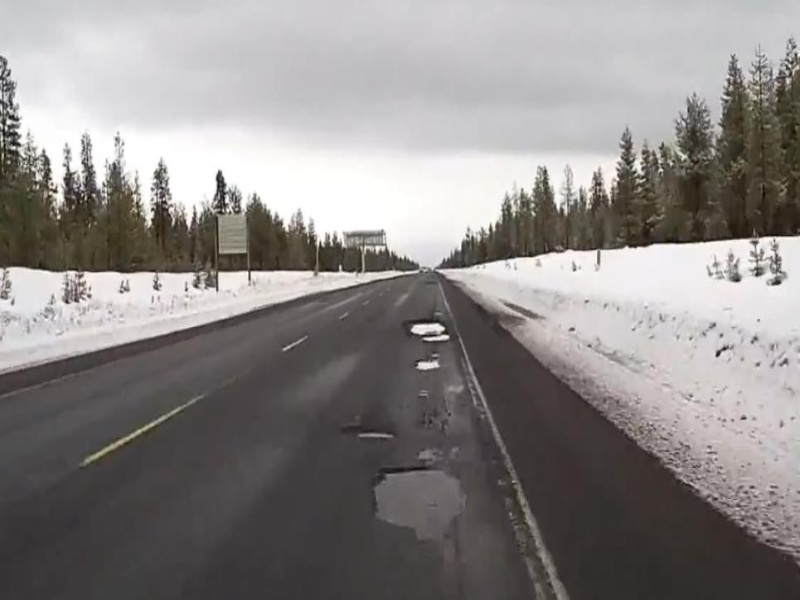pothole: (366, 459, 473, 543), (402, 316, 450, 337), (349, 423, 397, 441), (410, 353, 444, 372), (422, 332, 451, 343)
